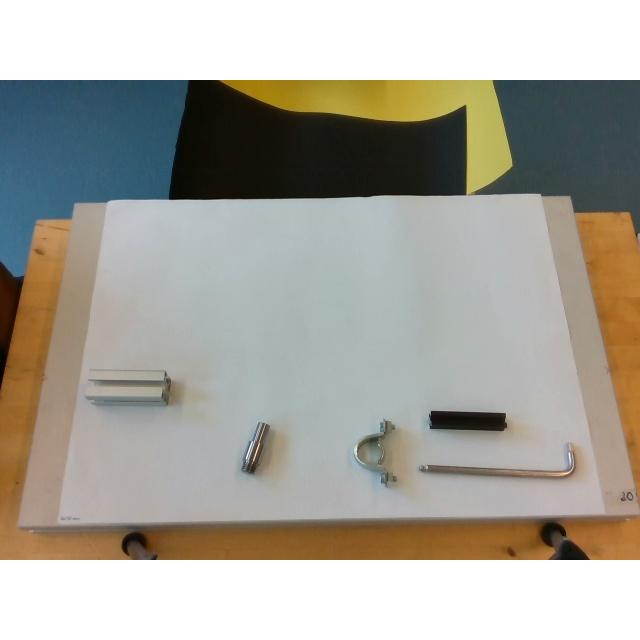AllenKey: (418, 443, 574, 477)
Axis2: (241, 422, 269, 472)
F20_20_B: (429, 410, 506, 430)
Housing: (353, 420, 395, 484)
S40_40_G: (86, 369, 170, 405)
